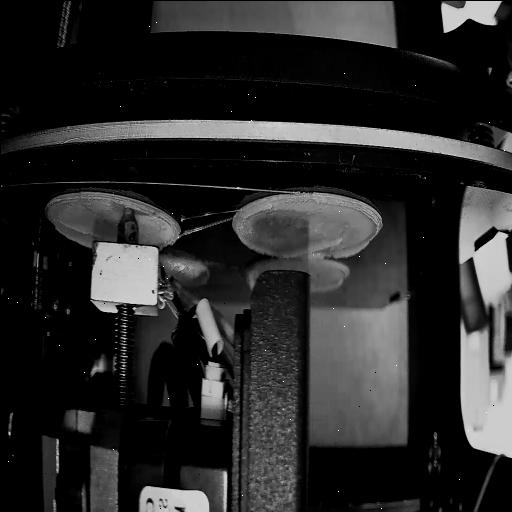over_extrusion: (284, 234, 369, 260), (230, 227, 278, 256), (62, 224, 100, 238)
